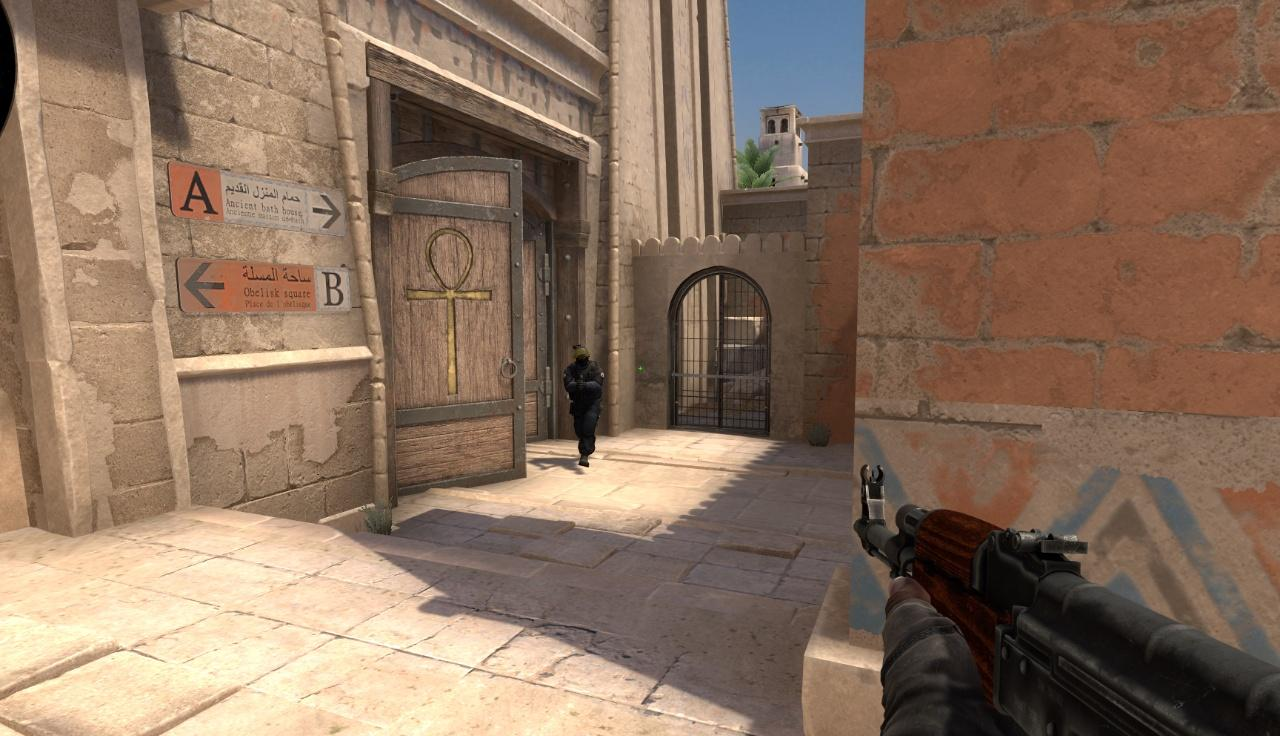ct: (561, 343, 602, 464)
cthead: (572, 344, 590, 367)
rifle: (835, 464, 1279, 730)
